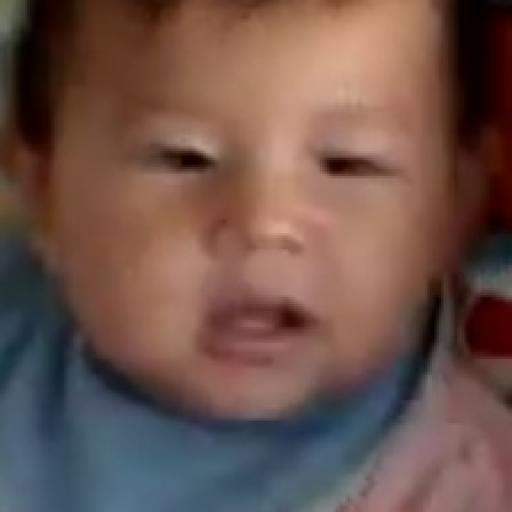Autism: (43, 3, 416, 487)
